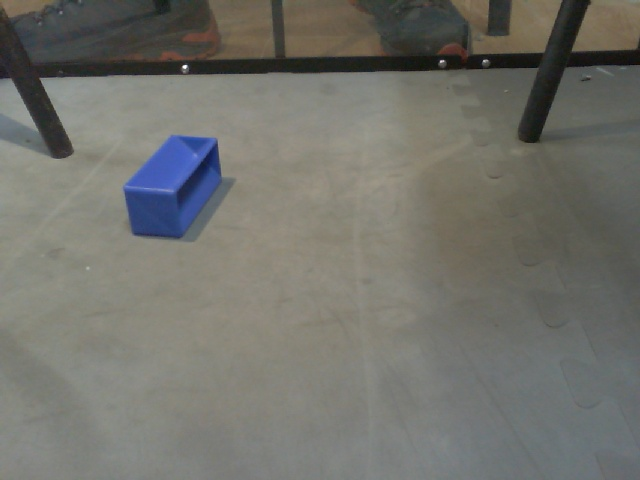BlueSample: (120, 132, 226, 243)
